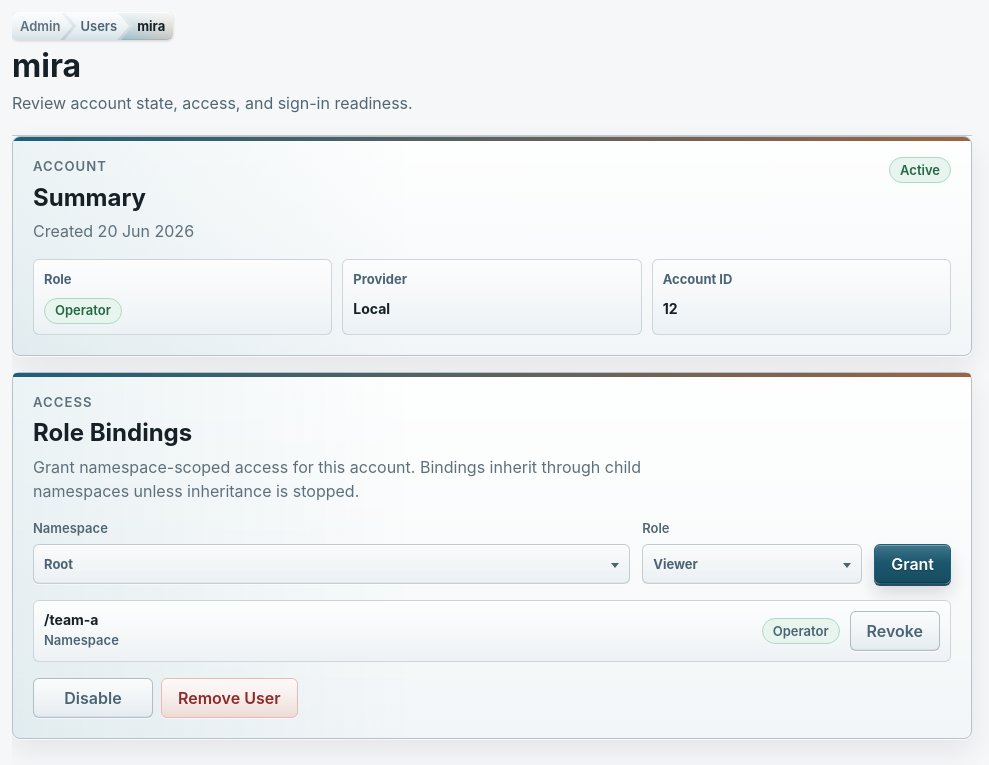
Test case: UserDetailPage › keeps bound namespaces visible but hides other role choices
The image size is (989, 765).
Expected: the navigation bar named "User location" reads "Admin Users mira", left=12, top=12, right=173, bottom=40
Select "/team-a" in the dropdown labelled "Namespace" at point(70, 528), box left=33, top=520, right=108, bottom=536
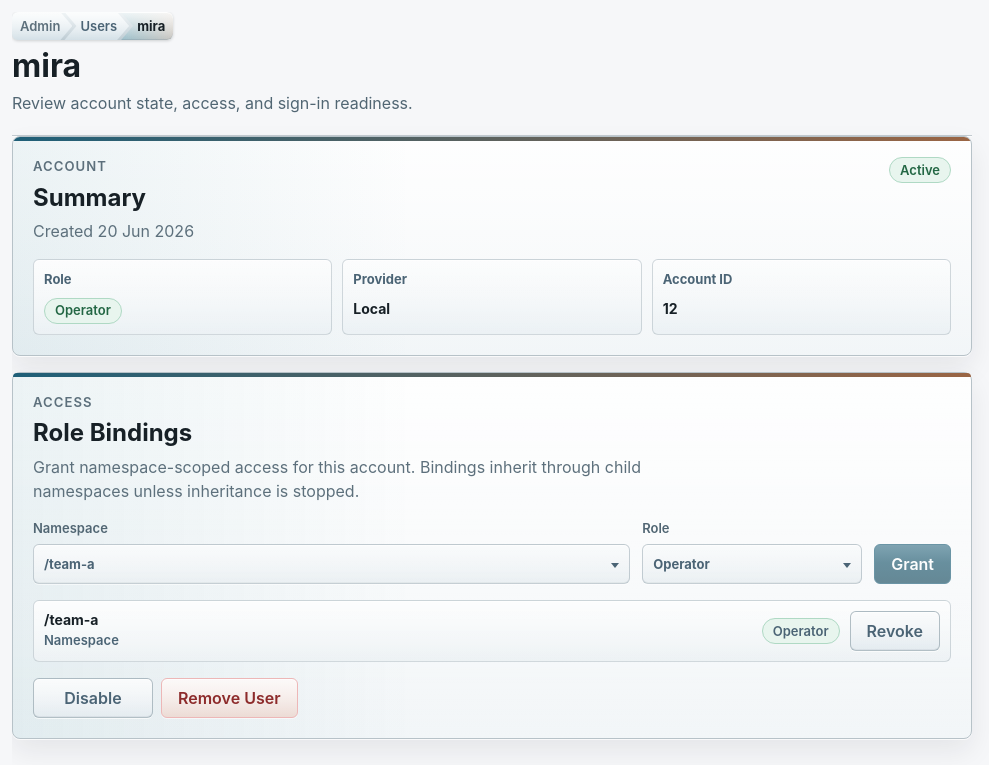
Result: the heading "Viewer" is gone
Result: the button "Grant" is disabled at left=874, top=544, right=951, bottom=584
